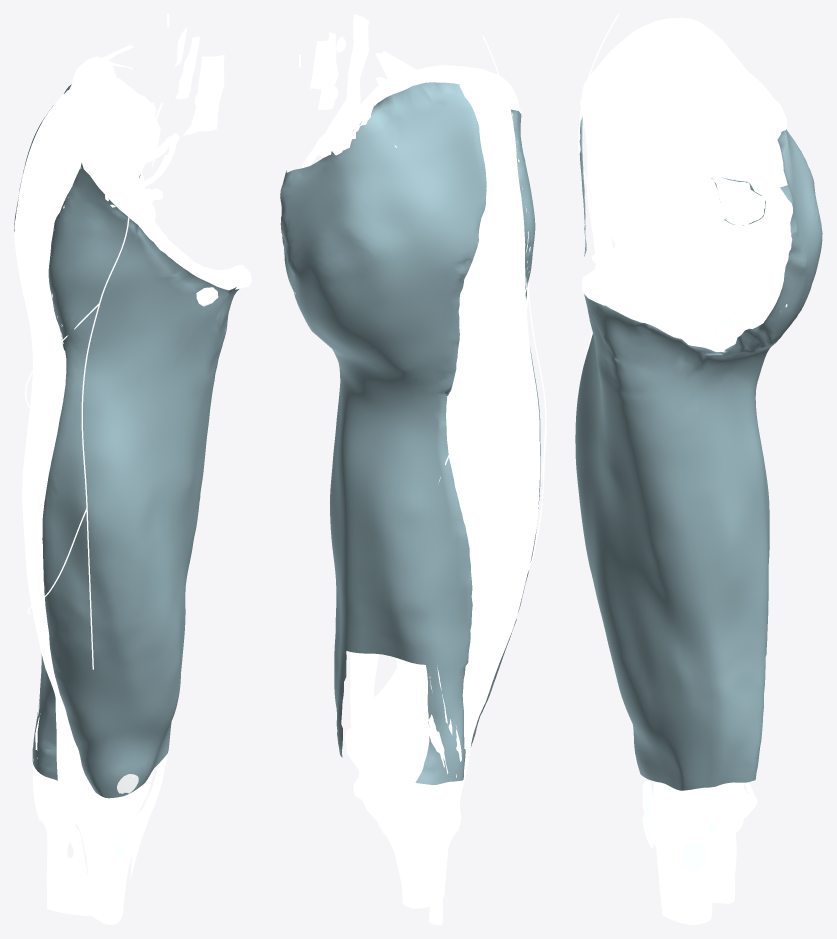
Rendered from iliotibial_tract.glb.
3 renders of one model, left to right at view 1: azimuth 30°, elevation 25°; view 2: azimuth 150°, elevation 25°; view 3: azimuth 270°, elevation 25°, orthographic. The views are drawn at different scales.
Visible parts, largest first — view 1: Fascia lata.r, Iliotibial tract.r, Hip bone.r, Tibia.r, Anterior sacro-iliac ligament.r, Fibula.r, Anterior longitudinal ligament, Interosseous membrane of leg.r, Lateral femoral cutaneous nerve.r.001, Sartorius muscle.r, Rectus femoris muscle.r, Long head of biceps femoris.r (+3 smaller); view 2: Fascia lata.r, Iliotibial tract.r, Tibia.r, Long head of biceps femoris.r, Hip bone.r, Articular capsule of knee joint.r, Femur.r, Fibula.r, Anterior longitudinal ligament, Sartorius muscle.r, Lateral femoral cutaneous nerve.r.001, Oblique popliteal ligament.r (+5 smaller); view 3: Fascia lata.r, Hip bone.r, Tibia.r, Gluteus maximus muscle.r, Sartorius muscle.r, Posterior sacro-iliac ligament.r, Obturator membrane.r, Piriformis muscle.r, Tensor fasciae latae.r, Anterior longitudinal ligament, Fibula.r, Long head of biceps femoris.r (+6 smaller).
Part boxes in pixels (box(x1,y1,x2,y2)): Fascia lata.r: box(14, 84, 238, 798); Iliotibial tract.r: box(14, 90, 108, 835); Hip bone.r: box(61, 56, 235, 305); Tibia.r: box(53, 772, 151, 924); Anterior sacro-iliac ligament.r: box(114, 90, 160, 188); Fibula.r: box(41, 789, 70, 913); Anterior longitudinal ligament: box(182, 54, 224, 135); Interosseous membrane of leg.r: box(64, 824, 91, 915); Lateral femoral cutaneous nerve.r.001: box(25, 90, 129, 669); Sartorius muscle.r: box(110, 189, 166, 877); Rectus femoris muscle.r: box(99, 791, 134, 860); Long head of biceps femoris.r: box(33, 663, 52, 820); Fascia lata.r: box(280, 82, 540, 784); Iliotibial tract.r: box(446, 85, 539, 795); Tibia.r: box(353, 777, 448, 908); Long head of biceps femoris.r: box(395, 657, 461, 834); Hip bone.r: box(332, 65, 520, 143); Articular capsule of knee joint.r: box(344, 716, 433, 800); Femur.r: box(351, 667, 428, 755); Fibula.r: box(424, 811, 460, 924); Anterior longitudinal ligament: box(325, 14, 369, 140); Sartorius muscle.r: box(350, 652, 378, 726); Lateral femoral cutaneous nerve.r.001: box(438, 36, 546, 607); Oblique popliteal ligament.r: box(360, 719, 418, 805); Fascia lata.r: box(575, 117, 822, 790); Hip bone.r: box(582, 17, 781, 331); Tibia.r: box(655, 789, 743, 924); Gluteus maximus muscle.r: box(691, 143, 792, 346); Sartorius muscle.r: box(580, 93, 703, 888); Posterior sacro-iliac ligament.r: box(727, 98, 790, 242); Obturator membrane.r: box(633, 255, 696, 304); Piriformis muscle.r: box(710, 175, 765, 224); Tensor fasciae latae.r: box(600, 122, 623, 244); Anterior longitudinal ligament: box(638, 66, 709, 184); Fibula.r: box(713, 834, 736, 903); Long head of biceps femoris.r: box(709, 293, 746, 351).
Bounding box in the file's own units: 0.1592 × 0.695 × 0.1752.
